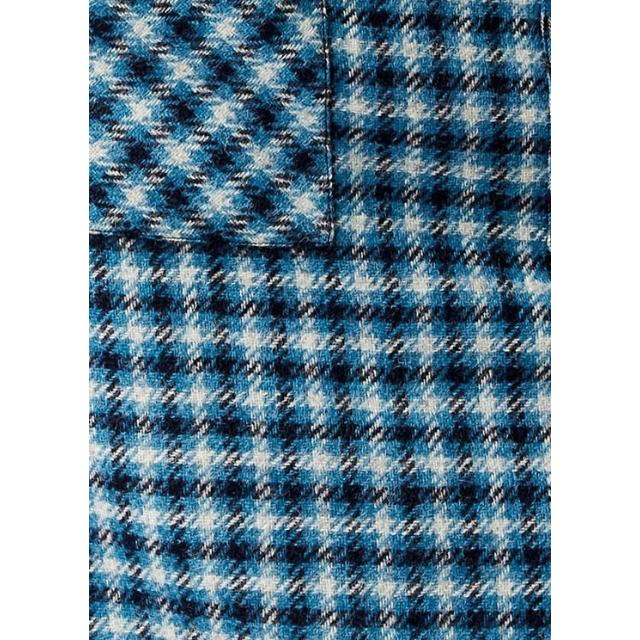wool: (89, 0, 551, 640)
